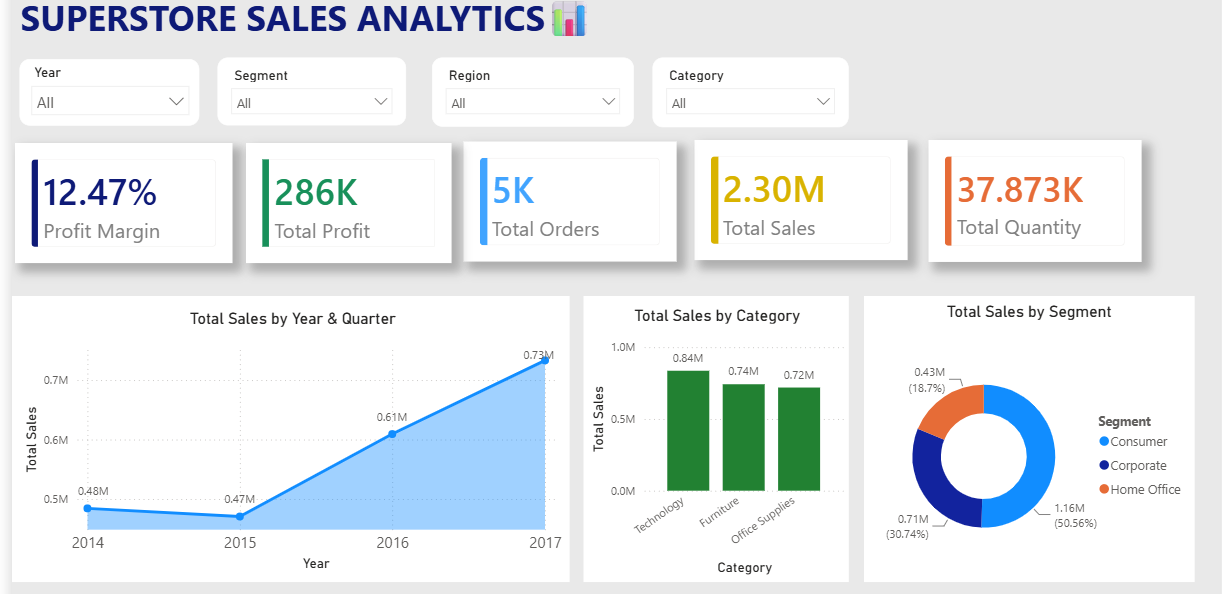

The page's visual inventory and layout, read from the dashboard file:
{"tool":"powerbi","page":{"name":"Overview","canvas":[1280,720],"ordinal":0},"visuals":[{"type":"cardVisual","fields":{"Data":["superstore.Total Quantity"]},"box":[972.6,206.5,225.8,129],"z":0},{"type":"cardVisual","fields":{"Data":["superstore.Total sales"]},"box":[724.2,206.5,225.8,127.4],"z":1000},{"type":"cardVisual","fields":{"Data":["superstore.Profit Margin"]},"box":[3.2,209.7,230.6,127.4],"z":2000},{"type":"cardVisual","fields":{"Data":["superstore.Total Orders"]},"box":[479,208.1,225.8,127.4],"z":3000},{"type":"lineChart","title":"Total Sales by Year & Quarter","fields":{"Category":["DateTable.Date.Variation.Date Hierarchy.Year","DateTable.Date.Variation.Date Hierarchy.Quarter"],"Y":["superstore.Total Sales"]},"box":[0,372.3,591.3,303.4],"z":4000},{"type":"clusteredColumnChart","fields":{"Category":["superstore.Category"],"Y":["superstore.Total Sales"]},"box":[605.3,372.3,281.5,303.4],"z":5000},{"type":"textbox","box":[0,45.4,625.7,90.7],"z":6000},{"type":"slicer","title":"Date","fields":{"Values":["DateTable.Date.Variation.Date Hierarchy.Year"]},"box":[7.8,120.4,190.8,70.4],"z":8000},{"type":"slicer","fields":{"Values":["superstore.Region"]},"box":[445.8,118.9,214.3,73.5],"z":9000},{"type":"slicer","fields":{"Values":["superstore.Category"]},"box":[678.8,118.9,208.1,74.2],"z":10000},{"type":"cardVisual","fields":{"Data":["superstore.Total Profit"]},"box":[248.4,209.7,217.7,127.4],"z":11000},{"type":"donutChart","fields":{"Category":["superstore.Segment"],"Y":["superstore.Total Sales"]},"box":[904.1,372.3,350.4,303.4],"z":12000},{"type":"slicer","fields":{"Values":["superstore.Segment"]},"box":[217.4,118.9,200.2,72],"z":14000}]}

Visuals, with their boxes on the page's 1280x720 design canvas (x1, y1, x2, y2). These are canvas units, not pixel positions in the 1222x594 screenshot, which may show the page scaled, cropped or inside an application window:
cardVisual - superstore.Total Quantity: [973, 206, 1198, 336]
cardVisual - superstore.Total sales: [724, 206, 950, 334]
cardVisual - superstore.Profit Margin: [3, 210, 234, 337]
cardVisual - superstore.Total Orders: [479, 208, 705, 336]
"Total Sales by Year & Quarter" lineChart: [0, 372, 591, 676]
clusteredColumnChart - superstore.Category x superstore.Total Sales: [605, 372, 887, 676]
textbox: [0, 45, 626, 136]
"Date" slicer: [8, 120, 199, 191]
slicer - superstore.Region: [446, 119, 660, 192]
slicer - superstore.Category: [679, 119, 887, 193]
cardVisual - superstore.Total Profit: [248, 210, 466, 337]
donutChart - superstore.Segment x superstore.Total Sales: [904, 372, 1254, 676]
slicer - superstore.Segment: [217, 119, 418, 191]
